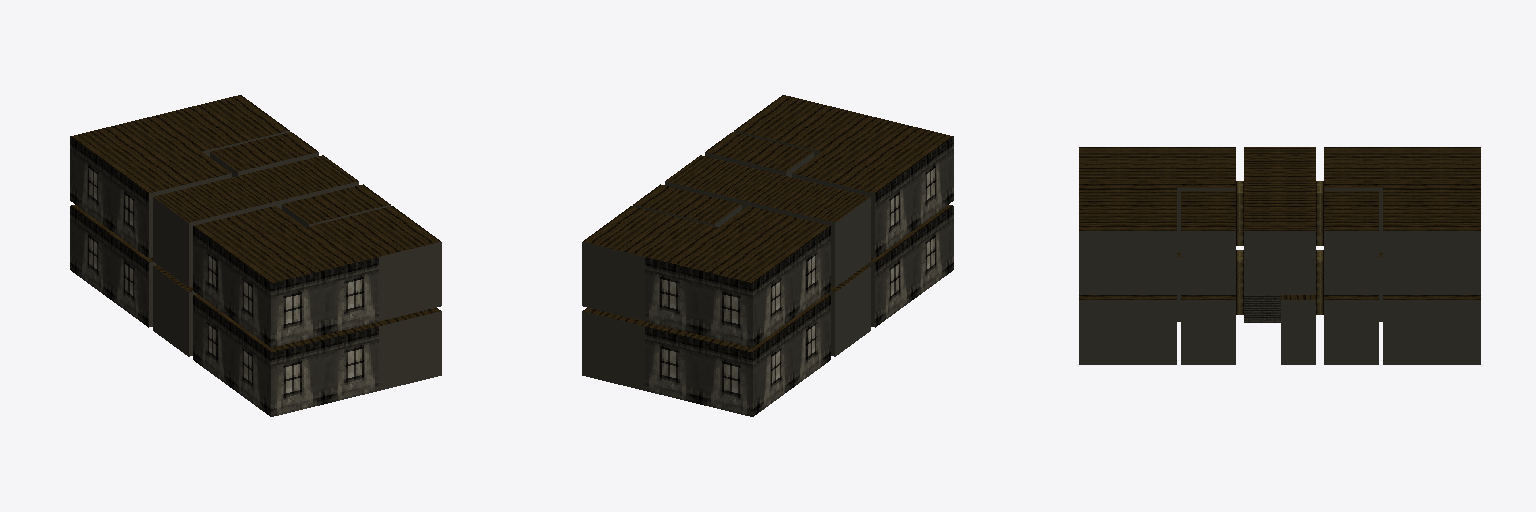
3 renders of one model, left to right at view 1: azimuth 30°, elevation 25°; view 2: azimuth 150°, elevation 25°; view 3: azimuth 270°, elevation 25°, orthographic.
Visible parts, largest first — view 1: building1; view 2: building1; view 3: building1.
Boxes of the visible parts, <box> form: building1: <box>70,95,441,416</box>; building1: <box>582,95,953,416</box>; building1: <box>1079,147,1480,364</box>.
Bounding box in the file's own units: 16 × 12.02 × 32.64.
Materials: 7 (5 with a texture image).